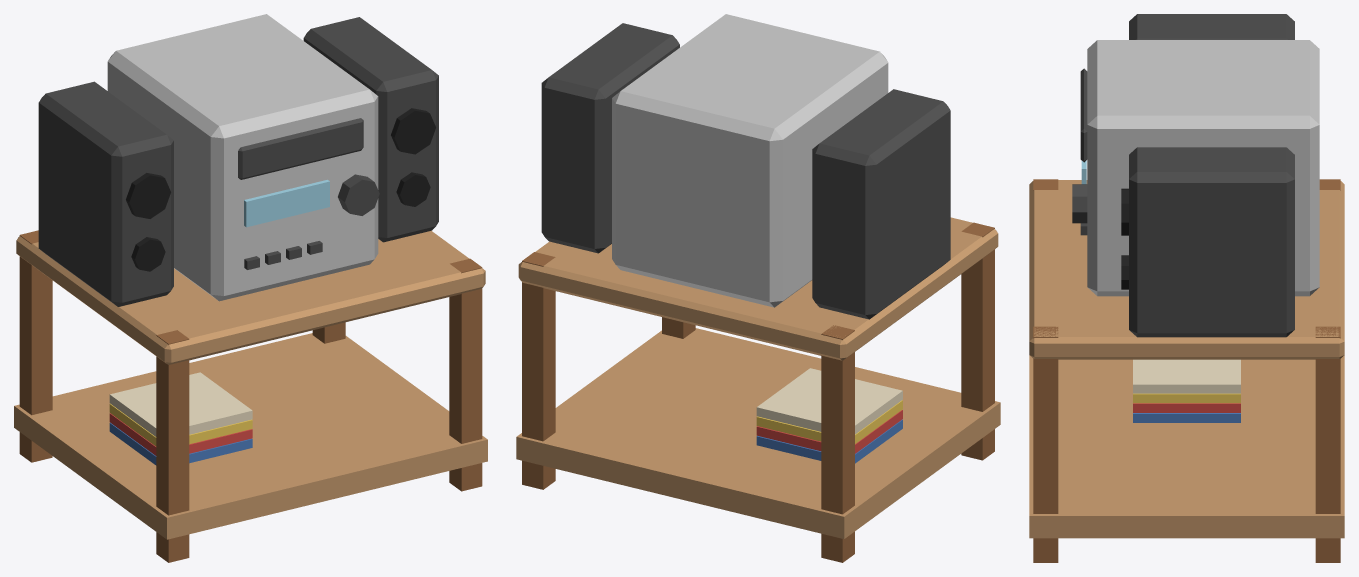
File: cd_player.glb
The picture shows the model from 3 angles, left to right: view 1: azimuth 30°, elevation 25°; view 2: azimuth 150°, elevation 25°; view 3: azimuth 270°, elevation 25°; orthographic projection. The views are drawn at different scales.
Visible parts, largest first — view 1: cd_player; view 2: cd_player; view 3: cd_player.
Boxes of the visible parts, x1=… form: cd_player: x1=14, y1=14, x2=487, y2=562; cd_player: x1=516, y1=14, x2=1000, y2=562; cd_player: x1=1029, y1=14, x2=1344, y2=562.
Size of the model in its own units: 0.47 by 0.54 by 0.38.
Materials: 1 (1 with a texture image).
